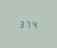four: (31, 20, 36, 28)
seven: (25, 19, 30, 28)
three: (18, 19, 23, 27)
